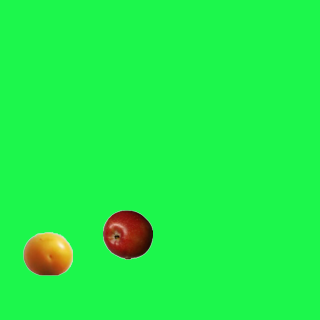Apple Braeburn: (102, 209, 152, 259)
Cherry Wax Yellow: (22, 228, 72, 278)
